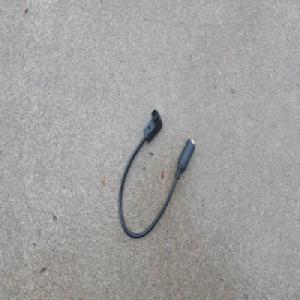Wire: (118, 106, 195, 240)
